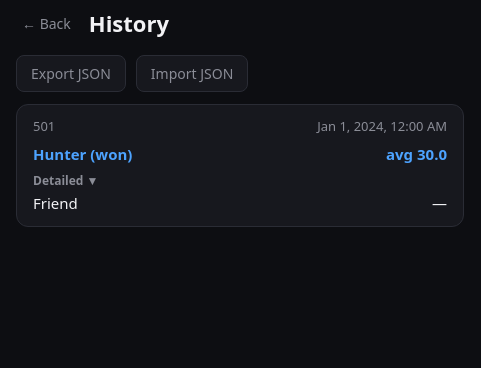
Test: HistoryScreen › shows BUST and applies the bust class for a busted round in the expanded detail
Click the button "Detailed ▼" at (66, 180), box x1=33 y1=165 x2=447 y2=189
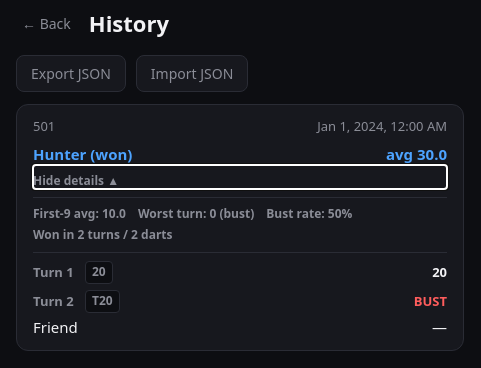
Expected: the text "BUST" is shown, x1=414 y1=292 x2=447 y2=310
Expected: the text "First-9 avg: 10.0" is shown, x1=33 y1=206 x2=126 y2=223
Expected: the text "Worst turn: 0 (bust)" is shown, x1=138 y1=206 x2=254 y2=223
